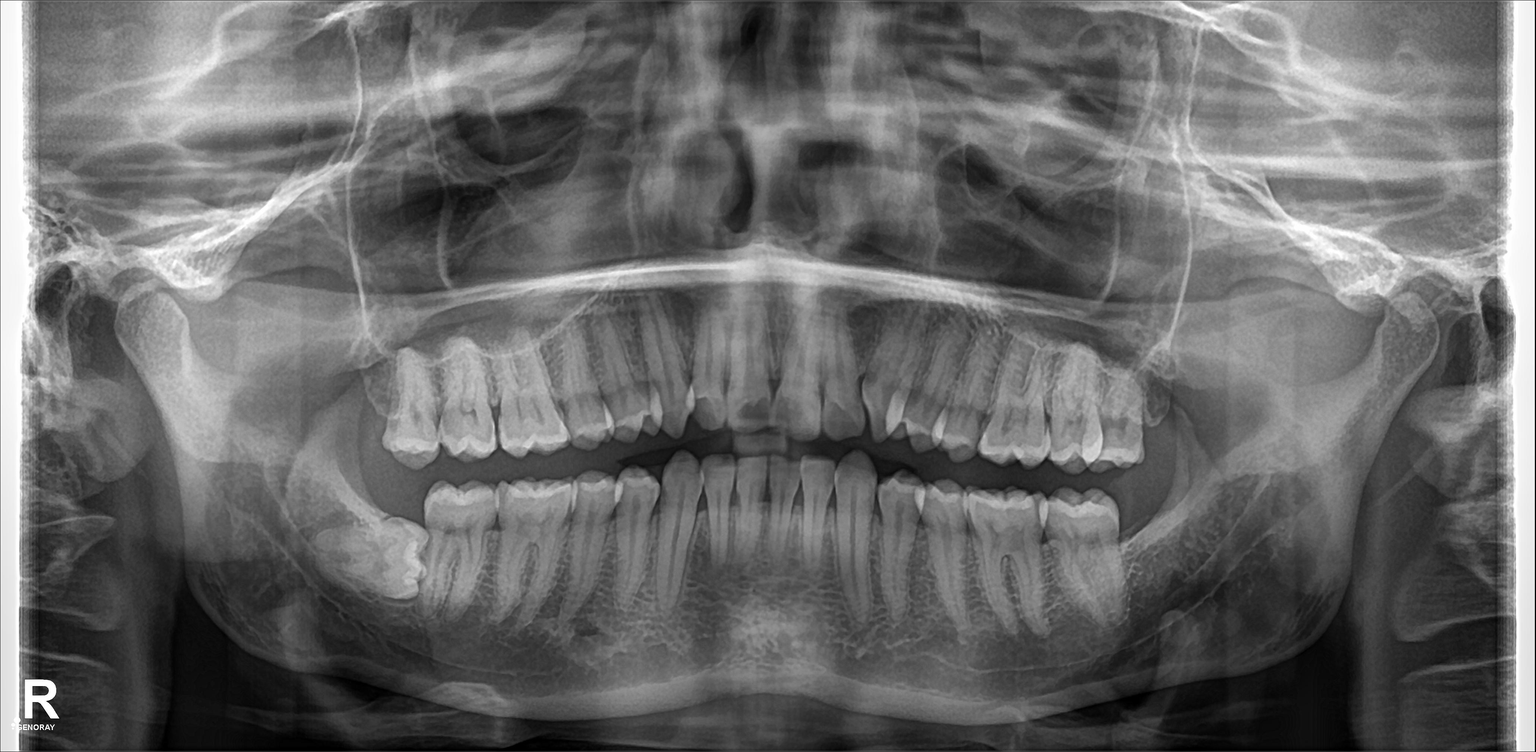Impacted Third Molar: (320, 504, 429, 597), (1117, 477, 1175, 573)
